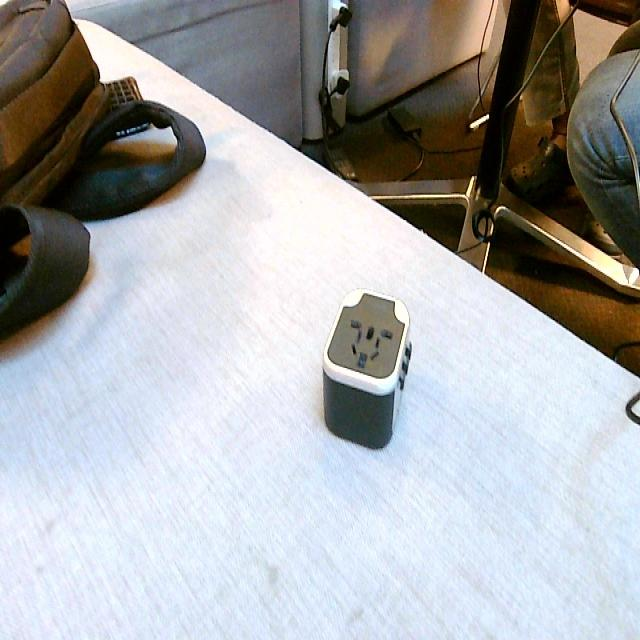adapter: (321, 287, 412, 449)
